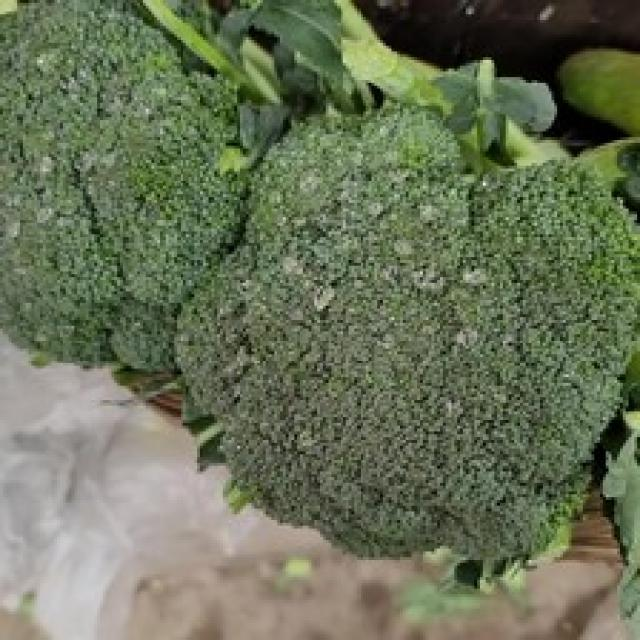Broccoli: (178, 111, 636, 561), (178, 111, 636, 561), (0, 2, 244, 368), (0, 2, 242, 368)
